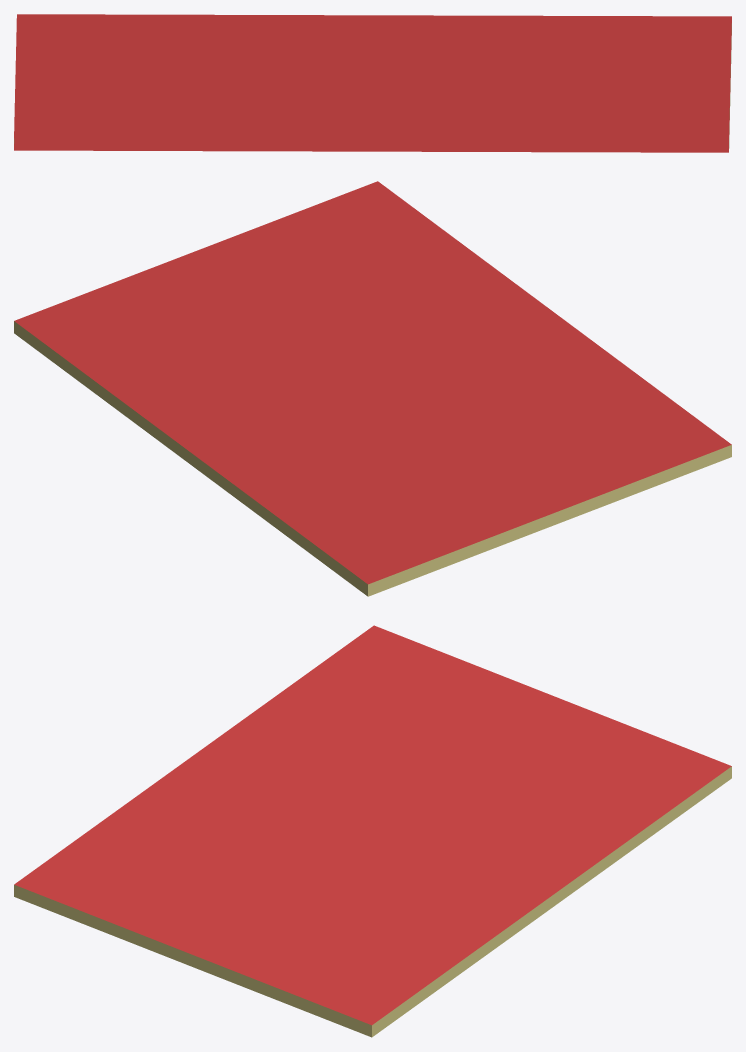
3 renders of one model, top to bottom at view 1: azimuth 30°, elevation 25°; view 2: azimuth 150°, elevation 25°; view 3: azimuth 270°, elevation 25°, orthographic.
Size of the model in its own units: 6.12 by 5.33 by 0.526.
